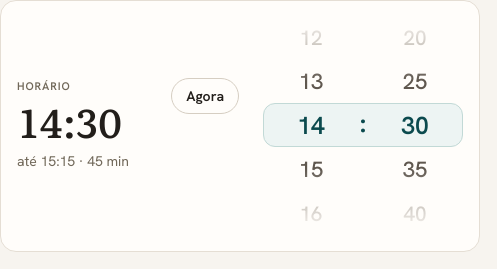
TimePicker › tocar num número do tambor escolhe e mostra quando termina
(page scrolled)
Expected: the text "até 15:15 · 45 min" is shown, x1=17 y1=151 x2=129 y2=172
Click the option "16" at (311, 213), box x1=299 y1=199 x2=323 y2=227
(page scrolled)
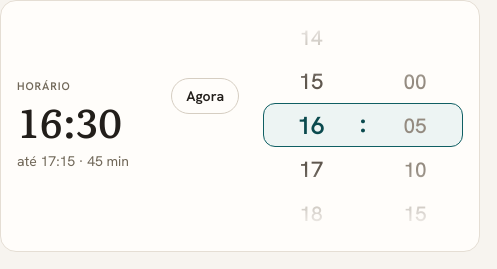
Click the option "05" at (415, 125), box x1=403 y1=111 x2=427 y2=139
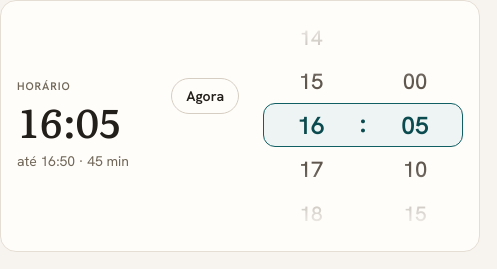
Expected: the text "16:05" is shown, x1=17 y1=101 x2=121 y2=141
